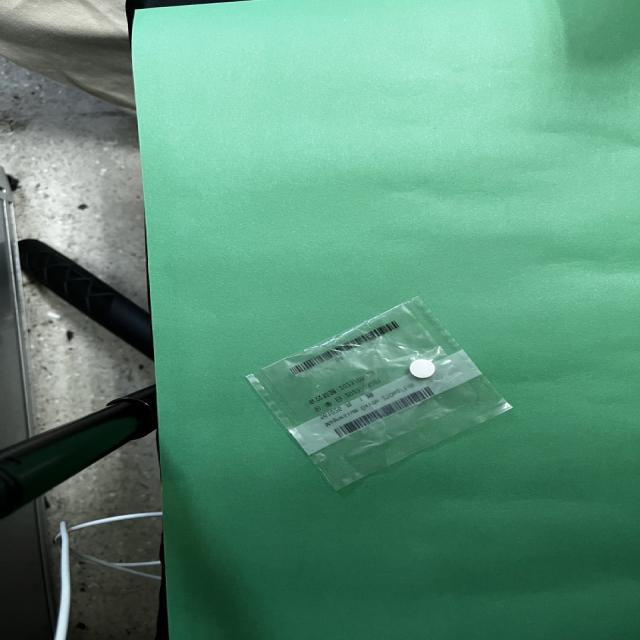Other Objects: (246, 298, 511, 490)
